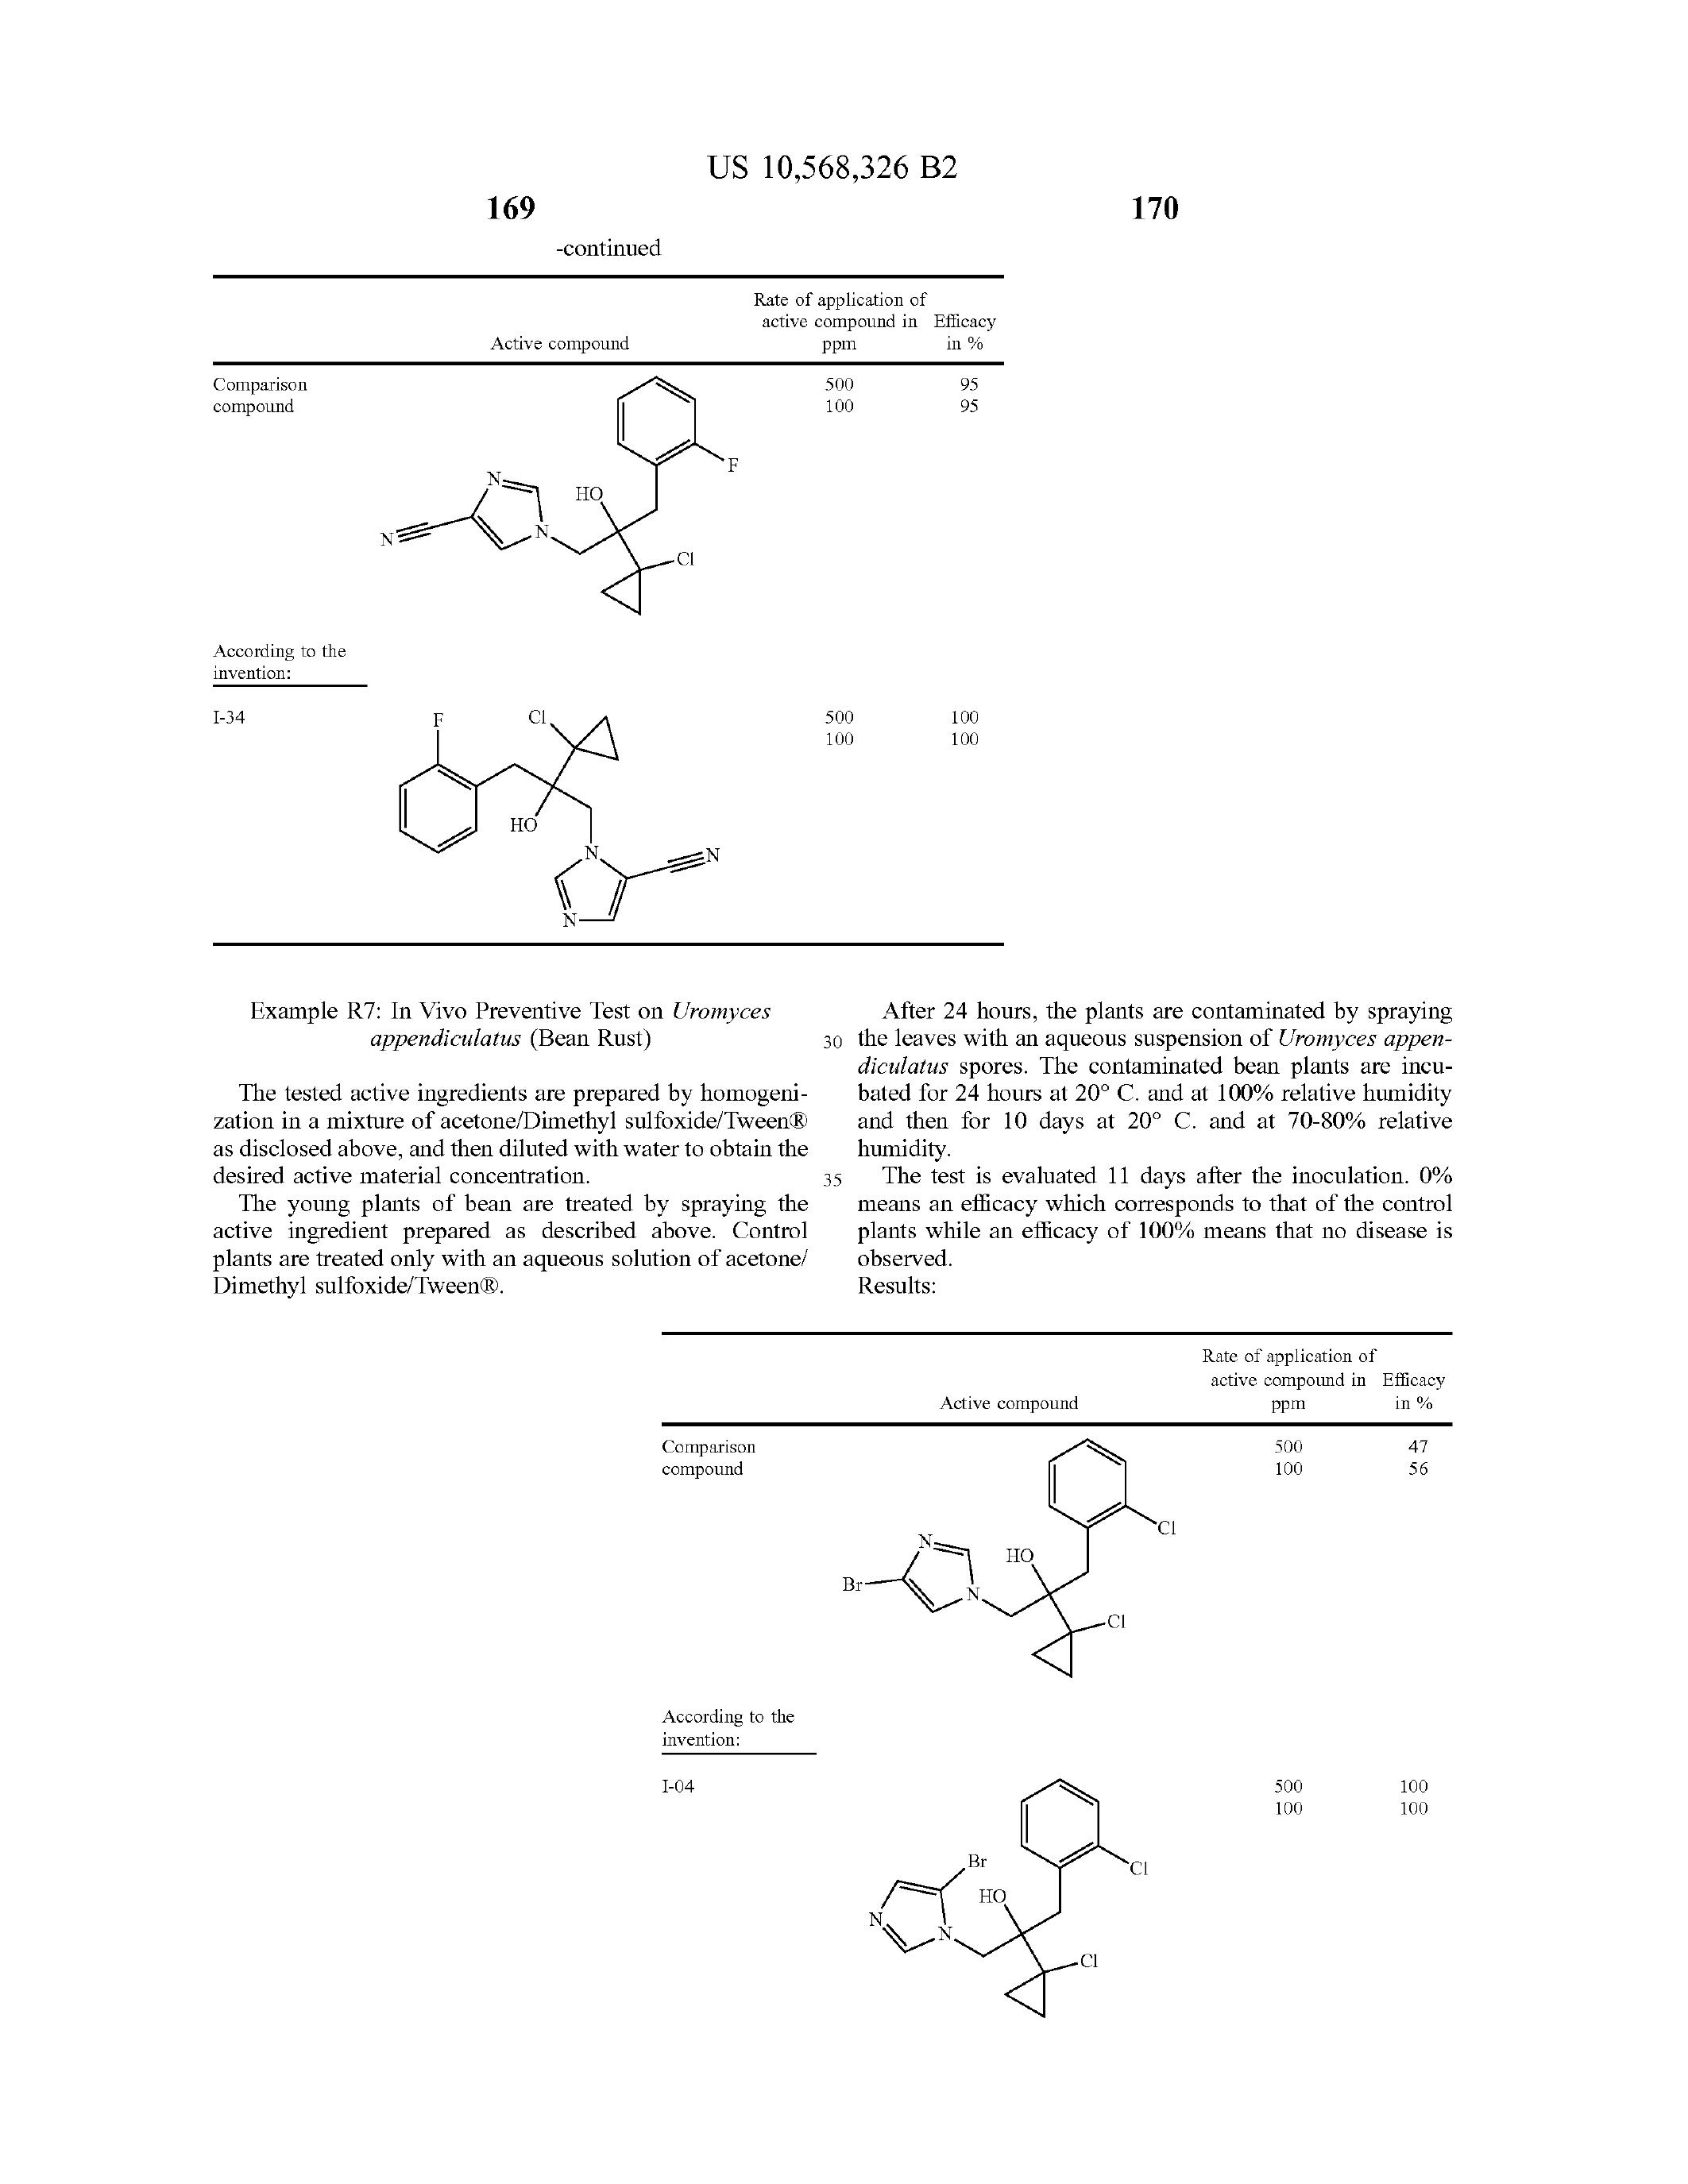relevant-structures: (346, 383, 803, 647), (844, 1762, 1186, 2099), (839, 1436, 1202, 1698), (374, 714, 764, 924)
